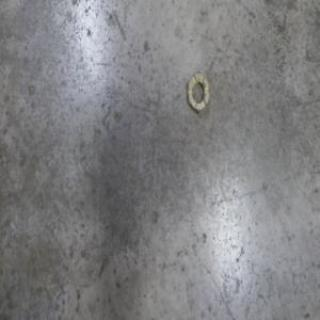Nuttrack_idkeyframe: (186, 67, 208, 113)
